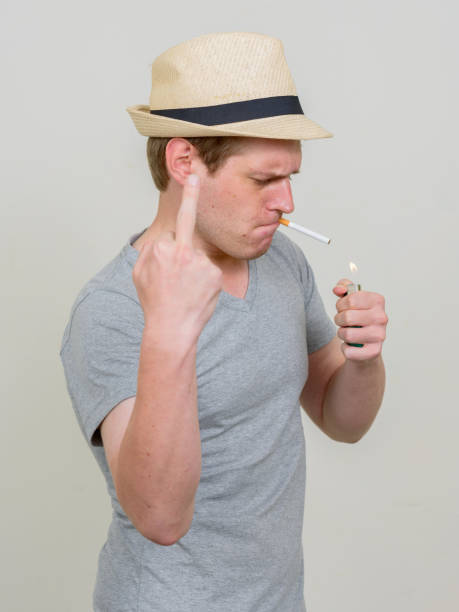cigarette: (277, 218, 336, 248)
insulting_gesture: (133, 174, 228, 343)
